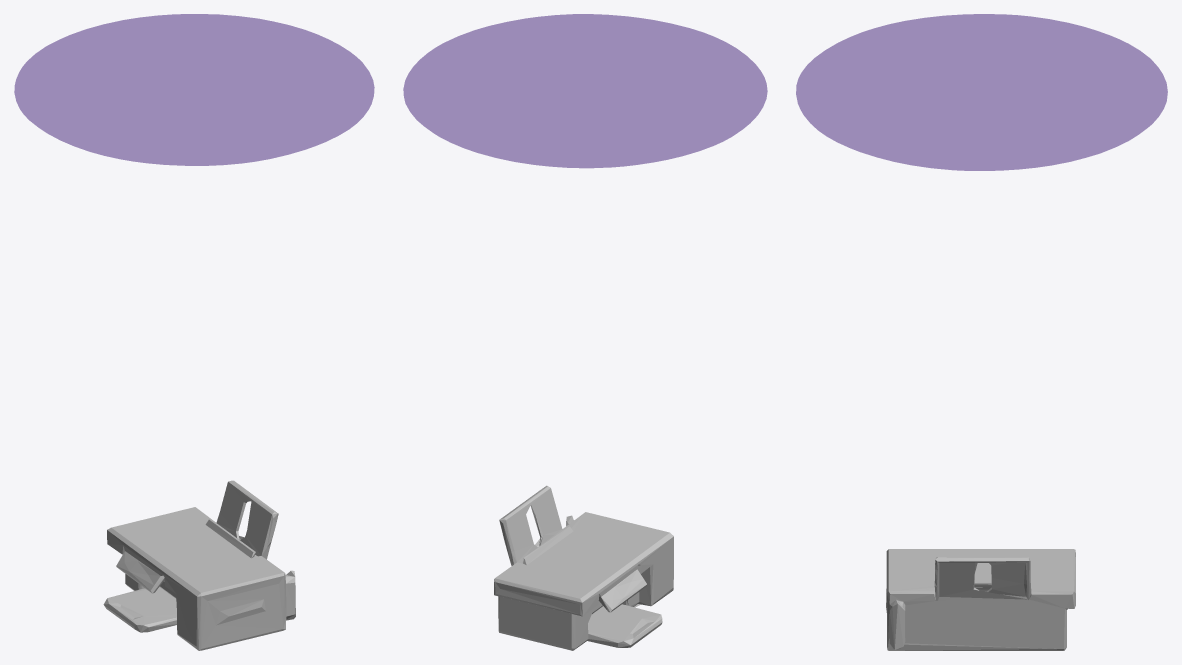
The model's file is init.glb.
3 renders of one model, left to right at view 1: azimuth 30°, elevation 25°; view 2: azimuth 150°, elevation 25°; view 3: azimuth 270°, elevation 25°, orthographic. The views are drawn at different scales.
Parts seen in each view (by area): view 1: world, object.obj; view 2: world, object.obj; view 3: world, object.obj.
Part boxes in pixels (x1,y1,x2,y2): world: [14, 14, 374, 165]; object.obj: [103, 480, 295, 650]; world: [403, 14, 767, 168]; object.obj: [494, 485, 673, 650]; world: [796, 14, 1167, 170]; object.obj: [886, 549, 1075, 650].
Bounding box in the file's own units: 0.6281 × 0.9994 × 0.6281.
